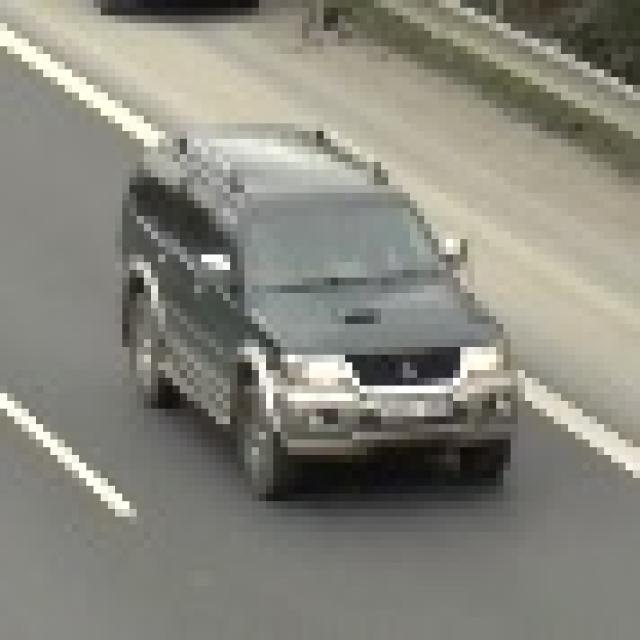SUV: (112, 136, 510, 500)
